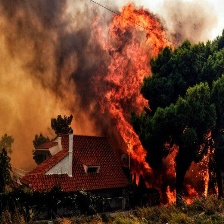fire: (94, 12, 210, 203)
smoke: (1, 2, 106, 148)
